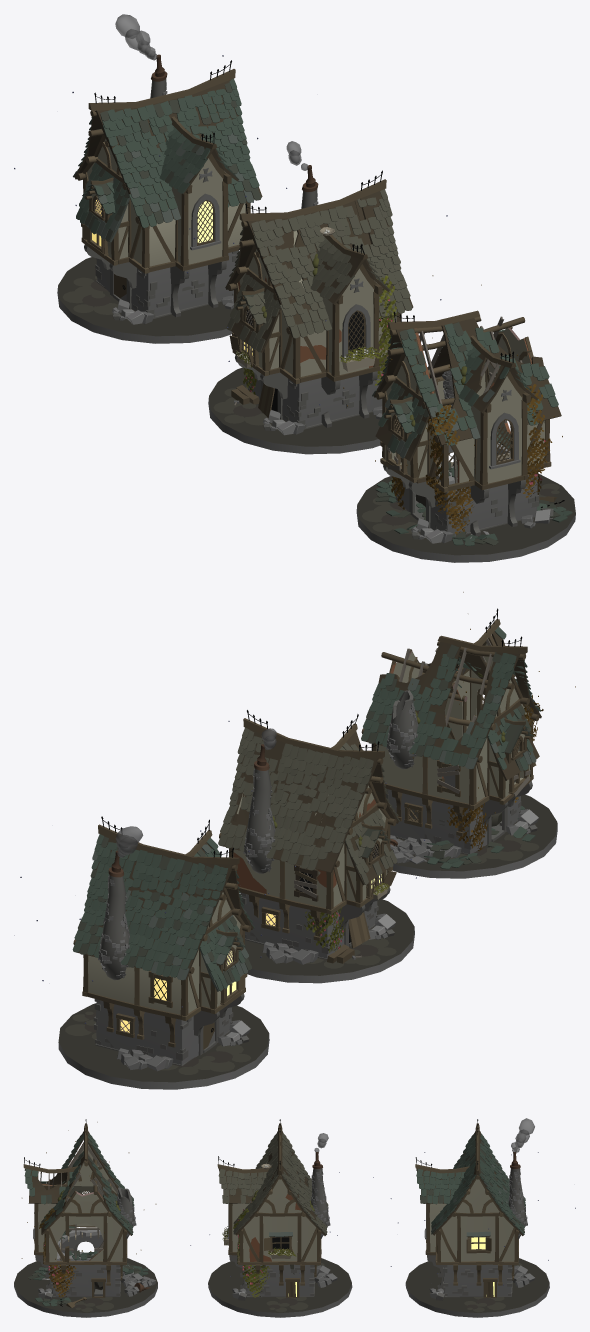
The picture shows the model from 3 angles, top to bottom: view 1: azimuth 30°, elevation 25°; view 2: azimuth 150°, elevation 25°; view 3: azimuth 270°, elevation 25°; orthographic projection. The views are drawn at different scales.
Visible parts, largest first — view 1: polySurface141, polySurface107, polySurface306, House_model_02_colored:pCylinder2, polySurface285, pCylinder2, House_model_02_colored:House_model1:polySurface10, House_model_02_colored:House_model1:pCube203, House_model1:pCube1, House_model1:polySurface6, House_model1:polySurface5, House_model1:polySurface7 (+7 smaller); view 2: polySurface141, polySurface107, polySurface306, polySurface285, pCylinder2, House_model_02_colored:House_model1:polySurface10, House_model_02_colored:pCylinder2, House_model1:polySurface6, House_model_02_colored:House_model1:pCube203, House_model1:polySurface5, House_model1:pCube1, House_model1:polySurface3 (+8 smaller); view 3: polySurface141, polySurface107, pCylinder2, polySurface285, House_model1:polySurface5, House_model_02_colored:pCylinder2, polySurface306, House_model_02_colored:House_model1:pCube203, House_model_02_colored:House_model1:polySurface10, House_model1:pCube1, polySurface297, polySurface269 (+15 smaller).
Boxes of the visible parts, box(x1,y1,x2,y2) form: polySurface141: box(14, 14, 262, 343); polySurface107: box(226, 189, 412, 352); polySurface306: box(372, 322, 558, 458); House_model_02_colored:pCylinder2: box(356, 474, 575, 562); polySurface285: box(383, 327, 544, 483); pCylinder2: box(208, 367, 380, 454); House_model_02_colored:House_model1:polySurface10: box(373, 318, 561, 461); House_model_02_colored:House_model1:pCube203: box(395, 445, 537, 535); House_model1:pCube1: box(247, 363, 383, 426); House_model1:polySurface6: box(225, 190, 413, 337); House_model1:polySurface5: box(238, 230, 396, 376); House_model1:polySurface7: box(322, 268, 377, 374); polySurface141: box(14, 816, 269, 1089); polySurface107: box(218, 727, 400, 884); polySurface306: box(361, 626, 541, 771); polySurface285: box(376, 643, 529, 803); pCylinder2: box(245, 899, 414, 983); House_model_02_colored:House_model1:polySurface10: box(366, 631, 541, 780); House_model_02_colored:pCylinder2: box(392, 794, 557, 878); House_model1:polySurface6: box(220, 729, 398, 872); House_model_02_colored:House_model1:pCube203: box(387, 770, 520, 853); House_model1:polySurface5: box(233, 785, 386, 908); House_model1:pCube1: box(242, 894, 377, 958); House_model1:polySurface3: box(245, 768, 275, 873); polySurface141: box(390, 1118, 575, 1317); polySurface107: box(218, 1133, 328, 1234); pCylinder2: box(208, 1258, 352, 1317); polySurface285: box(38, 1142, 122, 1261); House_model1:polySurface5: box(243, 1179, 316, 1261); House_model_02_colored:pCylinder2: box(14, 1252, 157, 1317); polySurface306: box(24, 1133, 134, 1234); House_model_02_colored:House_model1:pCube203: box(51, 1235, 120, 1296); House_model_02_colored:House_model1:polySurface10: box(25, 1131, 131, 1235); House_model1:pCube1: box(246, 1264, 314, 1296); polySurface297: box(43, 1255, 76, 1297); polySurface269: box(237, 1255, 270, 1297).
Size of the model in its own units: 20.55 by 19.3 by 58.67.
